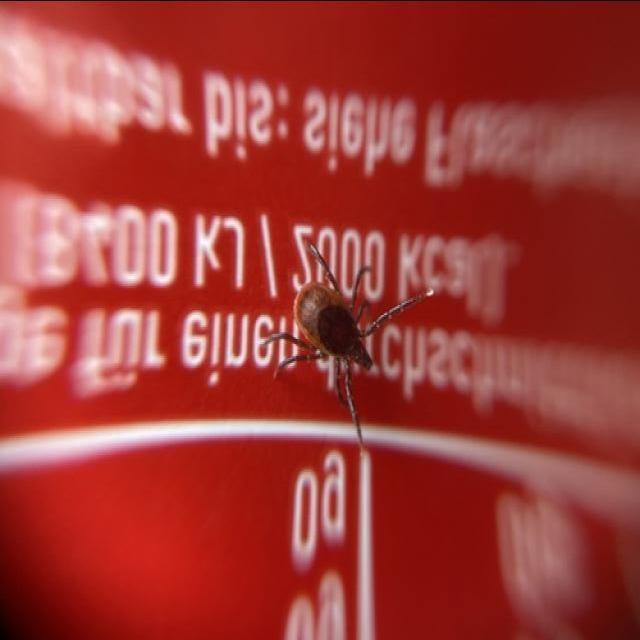Ixodes Ricinus-F: (256, 242, 435, 437)
